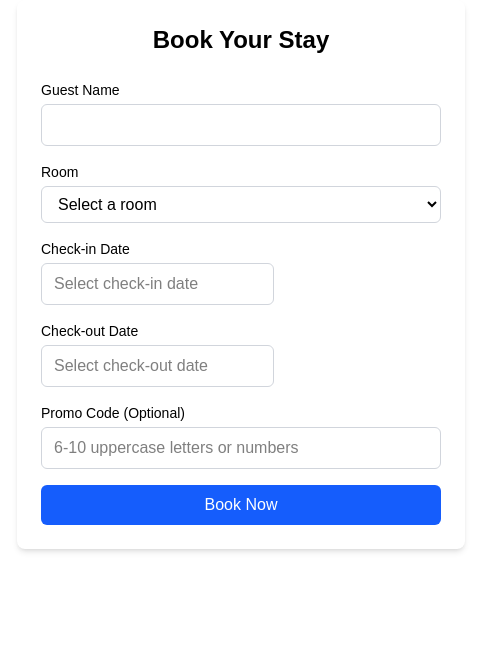
Test case: BookingForm Component › validates promo code format
The width and height of the screenshot is (483, 662).
Enter invalid promo code
Type "invalid" into the field labelled "Promo Code (Optional)" at (241, 448), box [41,427,441,469]
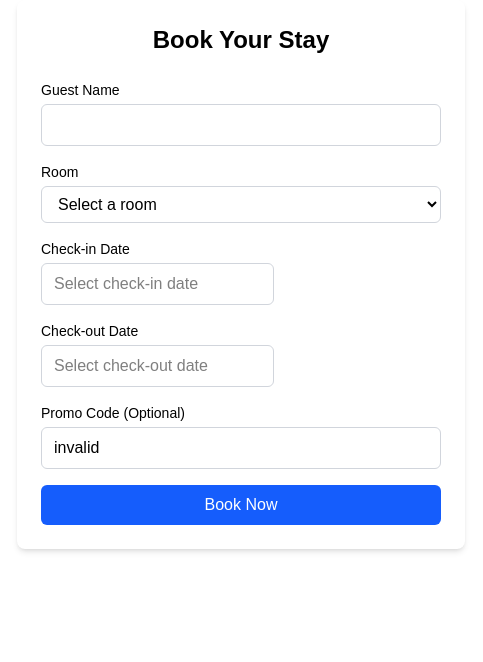
Submit the form
Click the button "Book Now" at (241, 505), box [41,485,441,525]
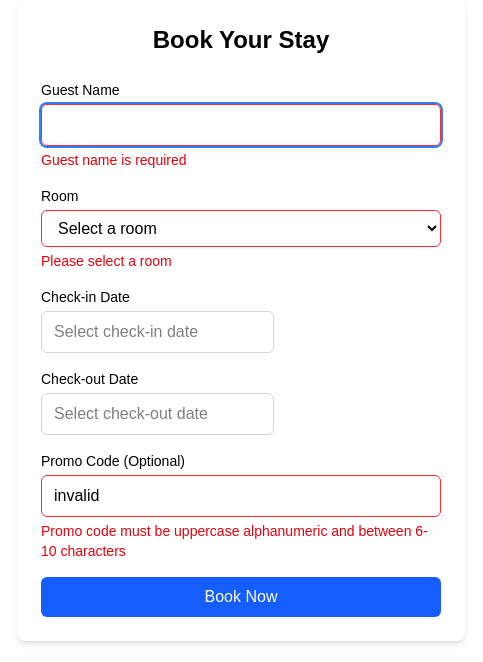
Now the text "Promo code must be uppercase alphanumeric and between 6-10 characters" is shown, box [41,521,441,561]
